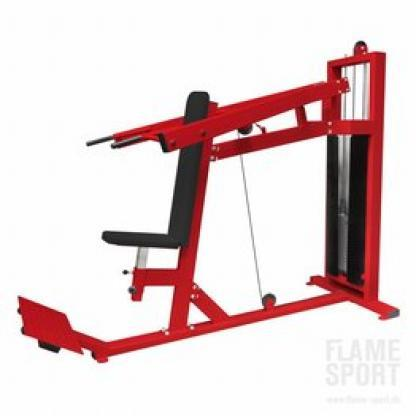shoulder press machine: (18, 32, 400, 361)
